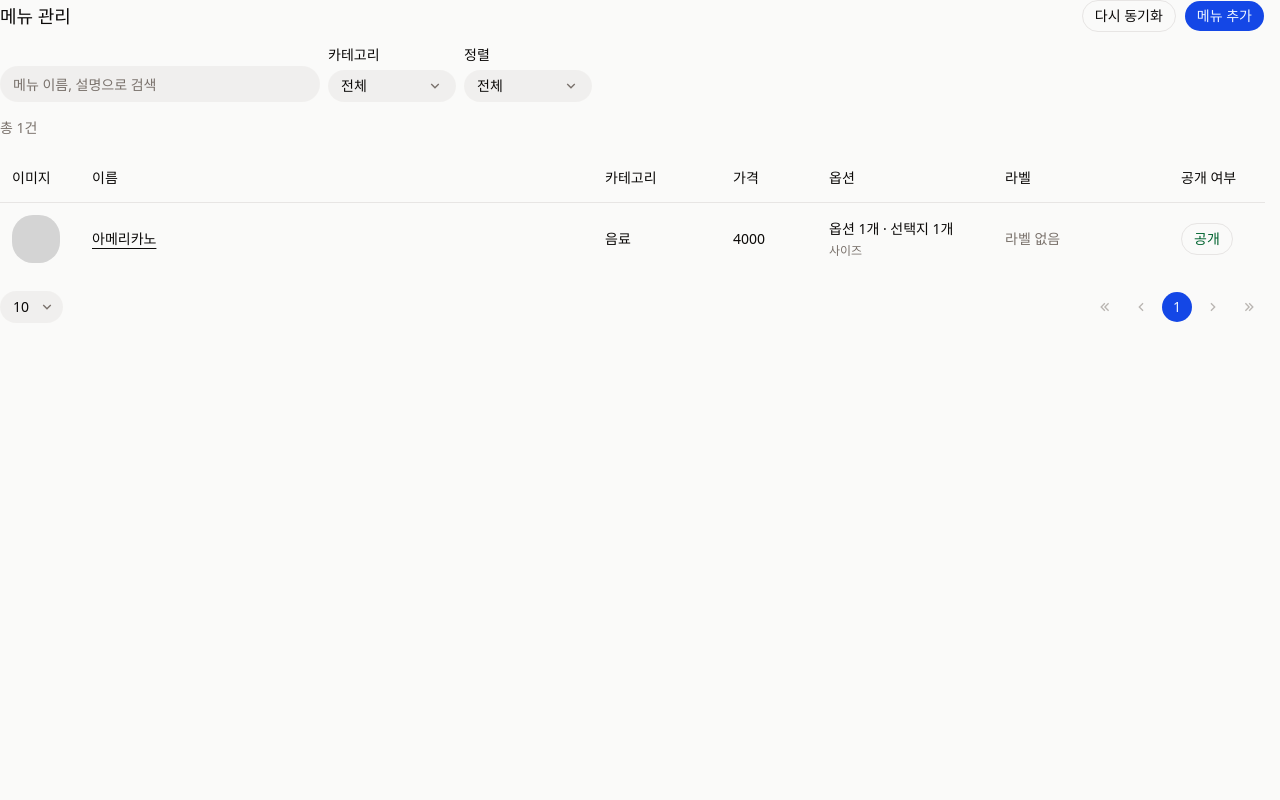
MenuManagementPage › shows a field error and does not submit when the menu item form is left empty
The image size is (1280, 800).
Click the button "메뉴 추가" at (1224, 16), box left=1184, top=0, right=1265, bottom=32
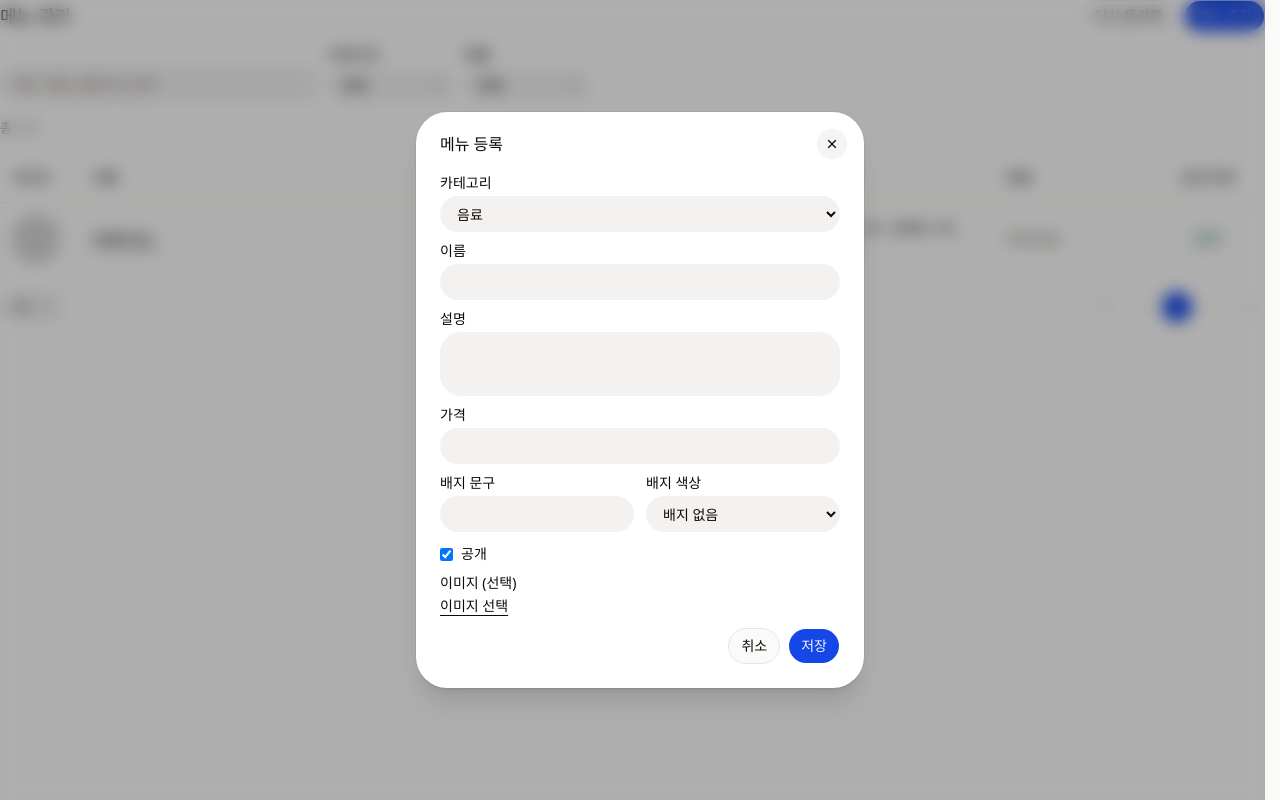
Click the button "저장" at (814, 646), box left=788, top=628, right=840, bottom=664
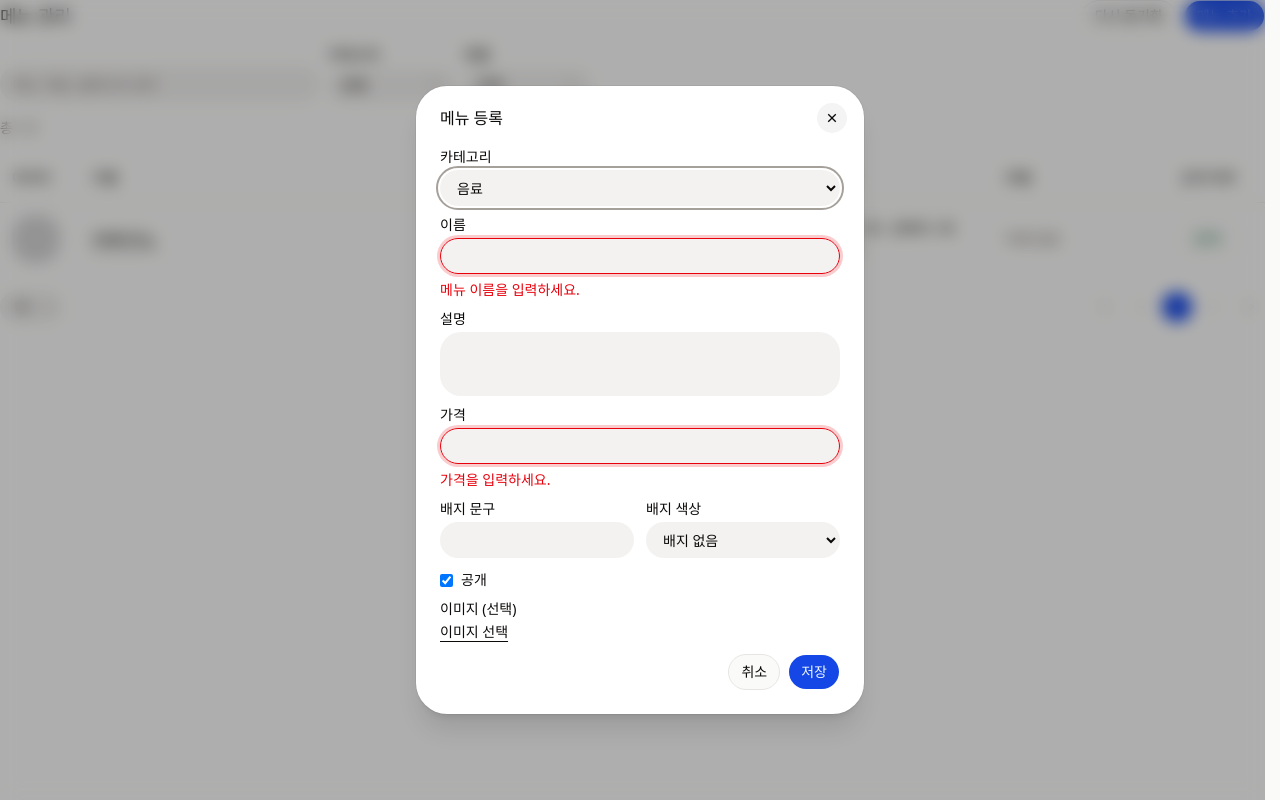
Expected: the text "메뉴 이름을 입력하세요." is shown, left=440, top=280, right=580, bottom=299
Expected: the text "가격을 입력하세요." is shown, left=440, top=470, right=550, bottom=489
